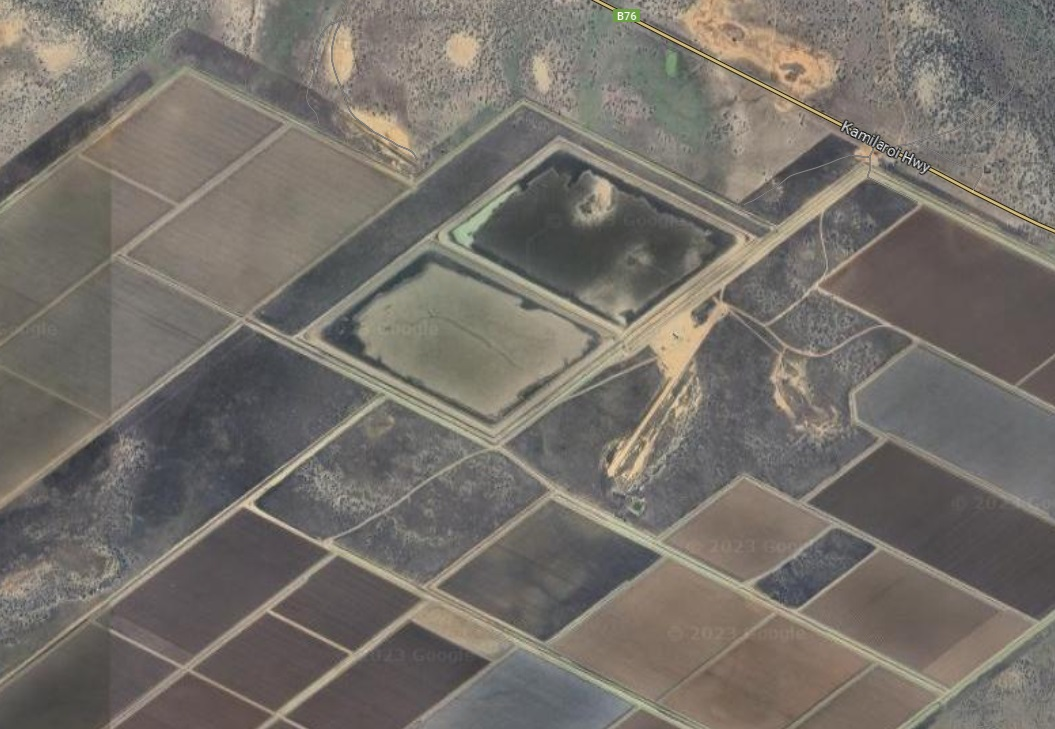deadspot: (255, 187, 623, 437), (395, 92, 757, 332)
